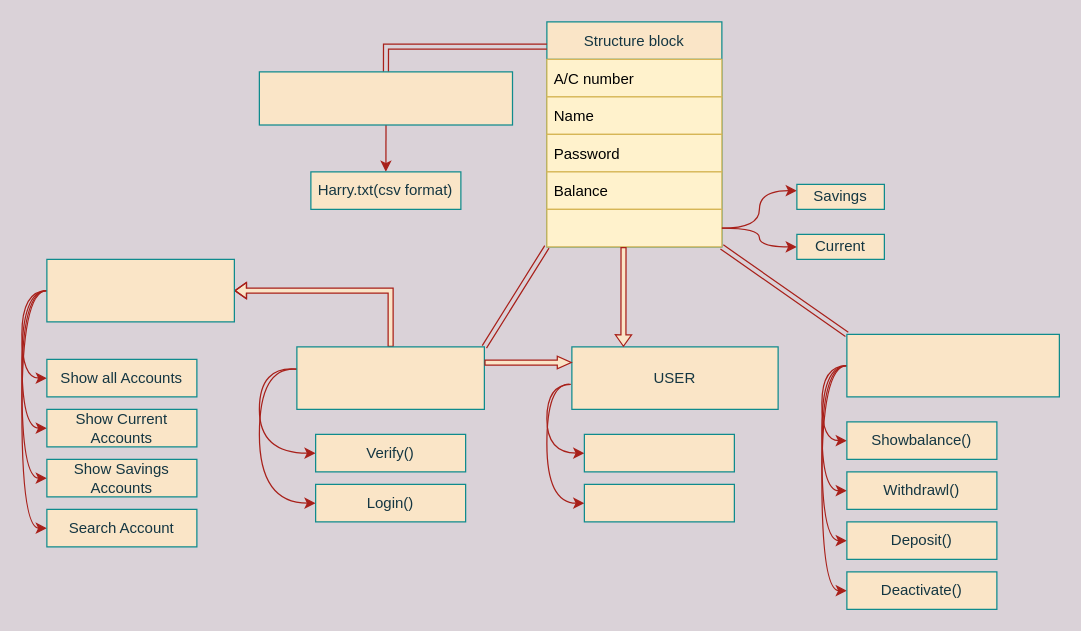
The diagram is 1081 pixels wide and 631 high, and some of its shapes have lost their labels. The shapes that lost their labels are listed below. From the top down, each one's centre as x and y in pixels, then its label:
(385,98): File Handler
(634,227): A/C type
(140,290): Admin
(390,377): BANK
(952,365): TRANSACTION
(658,452): Register()
(658,502): Display user()
